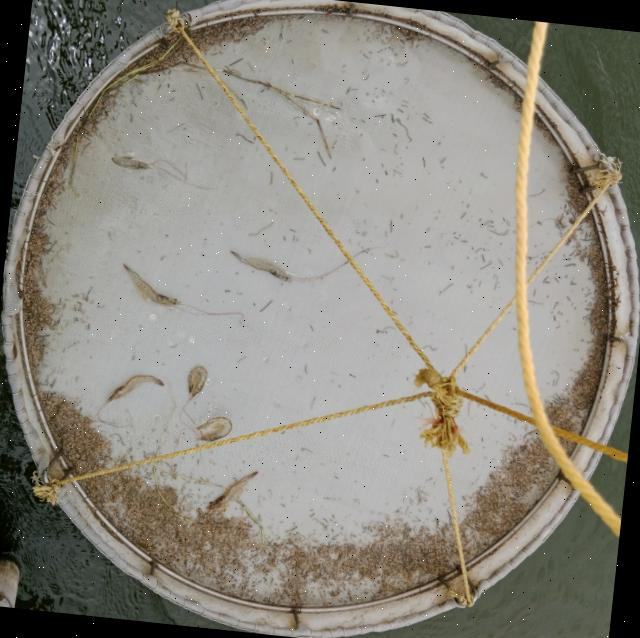shrimp: (123, 264, 180, 306), (209, 471, 257, 511), (231, 251, 293, 281), (104, 375, 164, 405), (184, 364, 208, 403), (197, 416, 231, 442), (112, 153, 151, 170)
